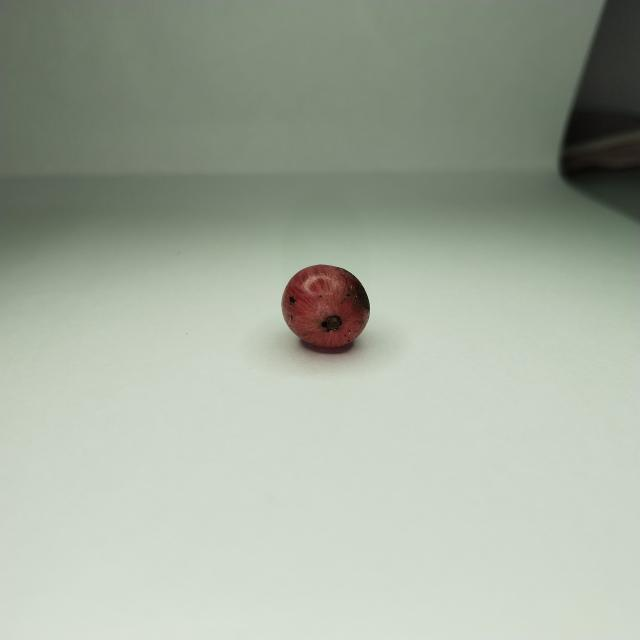Infectado: (282, 264, 369, 353)
